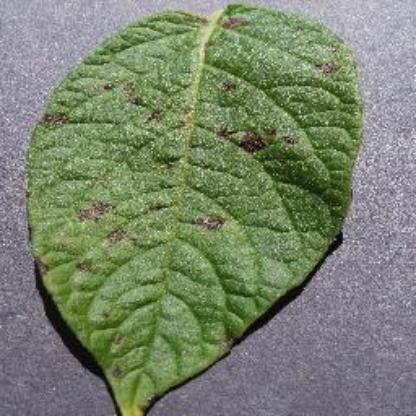Early-Blight: (21, 4, 380, 412)
